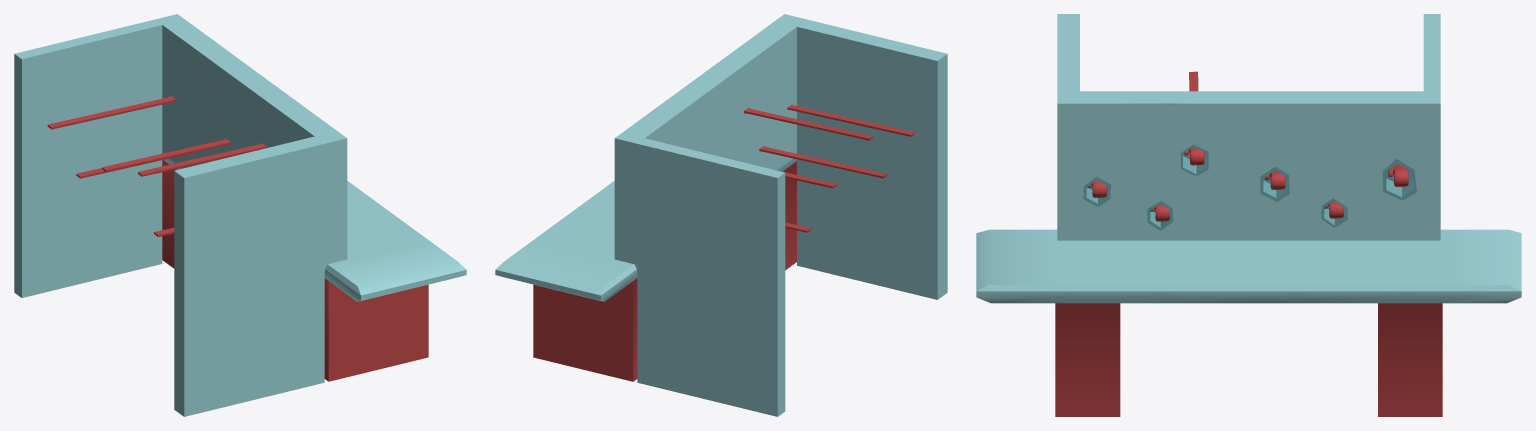
File: punchwall.fbx
The picture shows the model from 3 angles, left to right: view 1: azimuth 30°, elevation 25°; view 2: azimuth 150°, elevation 25°; view 3: azimuth 270°, elevation 25°; orthographic projection. The views are drawn at different scales.
Visible parts, largest first — view 1: Cube, Cube.001, Cube.004, Cube.005, Cube.006; view 2: Cube, Cube.001, Cube.006, Cube.007, Cube.008; view 3: Cube, Cube.001.
Part boxes in pixels (bbox=[...]): Cube: bbox=[14, 14, 347, 416]; Cube.001: bbox=[162, 158, 466, 381]; Cube.004: bbox=[47, 95, 176, 129]; Cube.005: bbox=[102, 138, 230, 172]; Cube.006: bbox=[138, 143, 266, 176]; Cube: bbox=[614, 14, 947, 416]; Cube.001: bbox=[495, 158, 796, 381]; Cube.006: bbox=[744, 107, 873, 140]; Cube.007: bbox=[759, 146, 887, 178]; Cube.008: bbox=[787, 104, 914, 136]; Cube: bbox=[1057, 14, 1440, 240]; Cube.001: bbox=[976, 229, 1521, 416].
Bounding box in the file's own units: 1562 × 1447 × 2654.
